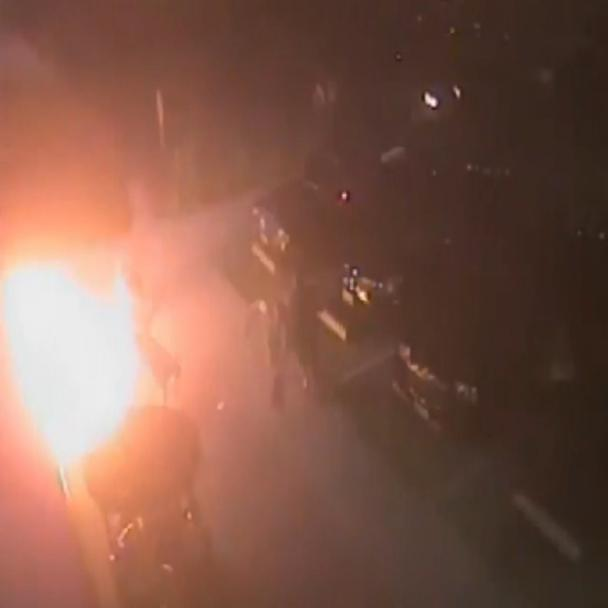Fire: (0, 176, 195, 511)
